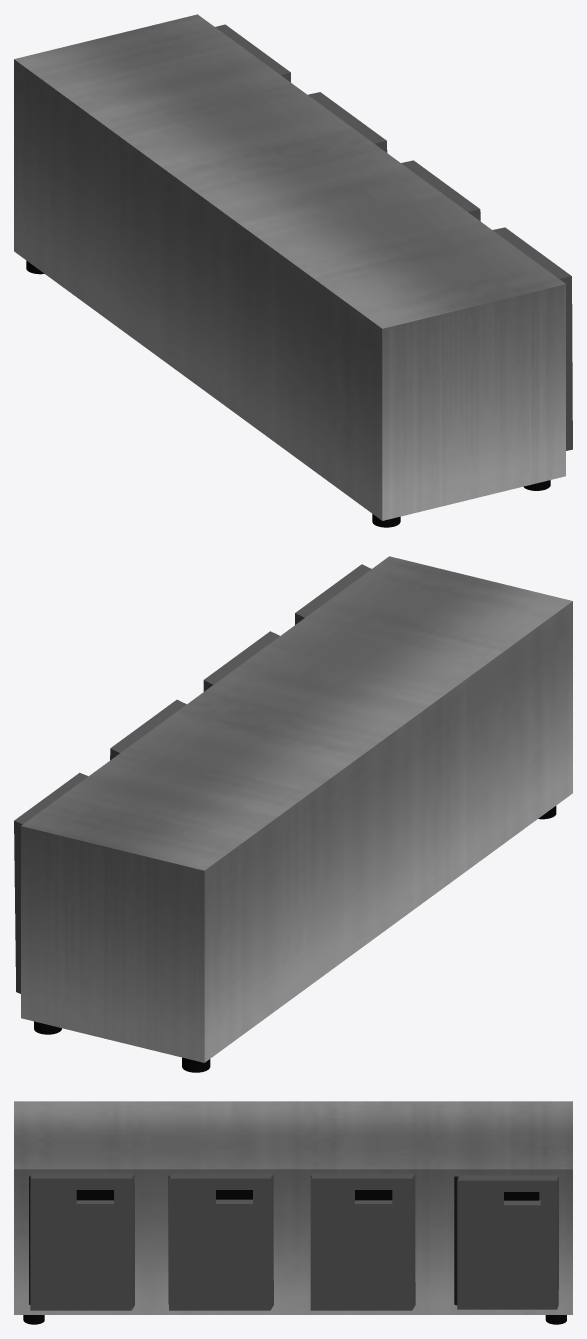
Rendered from werkbanknormaal_original.obj.
The picture shows the model from 3 angles, top to bottom: view 1: azimuth 30°, elevation 25°; view 2: azimuth 150°, elevation 25°; view 3: azimuth 270°, elevation 25°; orthographic projection. The views are drawn at different scales.
Parts seen in each view (by area): view 1: Cube_Cube.002, Cube.001_Cube.009, Cube.003_Cube.005, Cube.005_Cube.007, Cube.004_Cube.006; view 2: Cube_Cube.002, Cube.004_Cube.006, Cube.003_Cube.005, Cube.005_Cube.007, Cube.001_Cube.009; view 3: Cube_Cube.002, Cube.005_Cube.007, Cube.003_Cube.005, Cube.001_Cube.009, Cube.004_Cube.006, Cylinder.007_Cylinder.008, Cube.002_Cube.010, Cube.007_Cube.012, Cube.006_Cube.011, Cube.008_Cube.013.
Boxes of the visible parts, bbox=[...] form: Cube_Cube.002: bbox=[14, 14, 565, 520]; Cube.001_Cube.009: bbox=[492, 227, 572, 450]; Cube.003_Cube.005: bbox=[401, 160, 480, 220]; Cube.005_Cube.007: bbox=[308, 92, 387, 152]; Cube.004_Cube.006: bbox=[215, 24, 290, 82]; Cube_Cube.002: bbox=[21, 556, 572, 1062]; Cube.004_Cube.006: bbox=[14, 772, 88, 993]; Cube.003_Cube.005: bbox=[203, 631, 279, 691]; Cube.005_Cube.007: bbox=[110, 699, 186, 760]; Cube.001_Cube.009: bbox=[295, 564, 371, 624]; Cube_Cube.002: bbox=[14, 1101, 572, 1314]; Cube.005_Cube.007: bbox=[310, 1173, 415, 1310]; Cube.003_Cube.005: bbox=[169, 1173, 273, 1310]; Cube.001_Cube.009: bbox=[30, 1173, 134, 1310]; Cube.004_Cube.006: bbox=[457, 1175, 558, 1309]; Cylinder.007_Cylinder.008: bbox=[454, 1176, 458, 1305]; Cube.002_Cube.010: bbox=[76, 1190, 113, 1200]; Cube.007_Cube.012: bbox=[355, 1190, 392, 1200]; Cube.006_Cube.011: bbox=[216, 1190, 252, 1199]; Cube.008_Cube.013: bbox=[504, 1192, 539, 1200].
Size of the model in its own units: 3.48 by 3.42 by 11.04.
